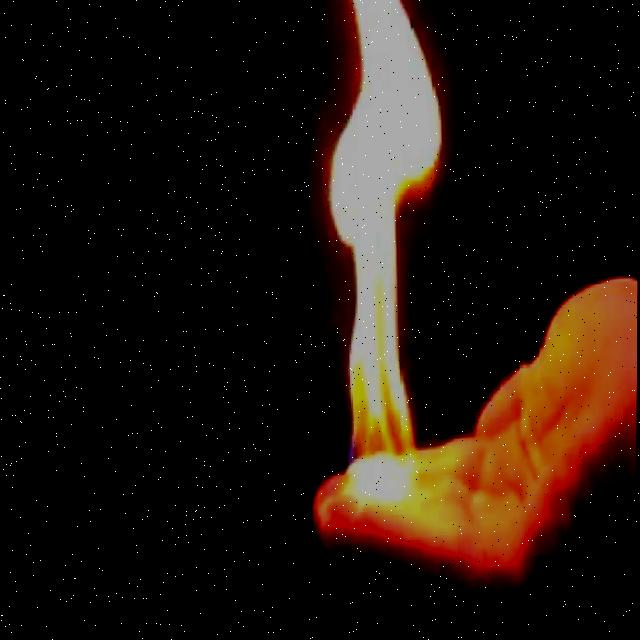Fire: (315, 0, 466, 480)
